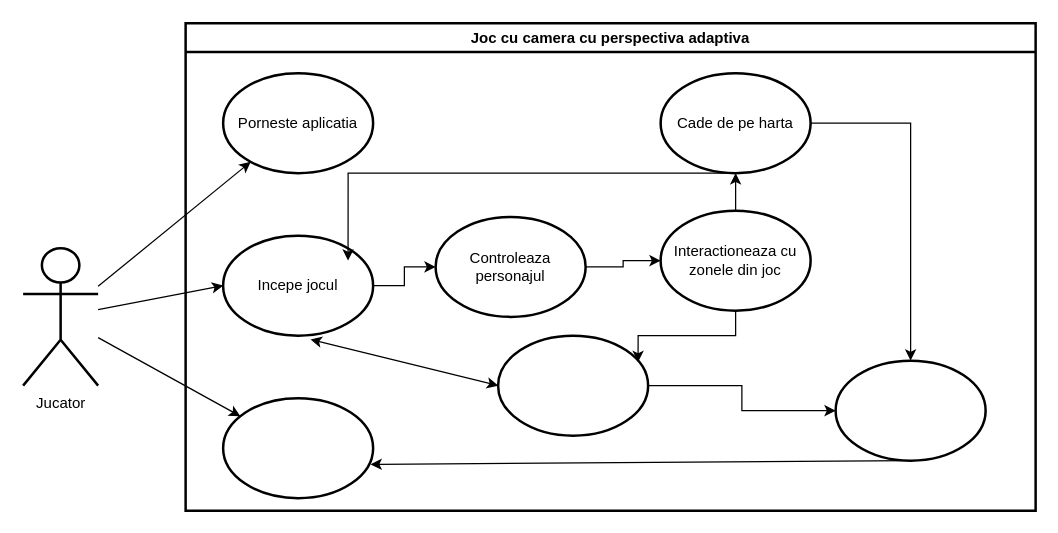
Image size: 1058x533. Some labels were removed from this diagram. The centre of each missing label's shape, as x and y in pixels:
Apasa "Escape": the point at 572,385
Iese din joc: the point at 910,410
Opreste aplicatia: the point at 297,447
